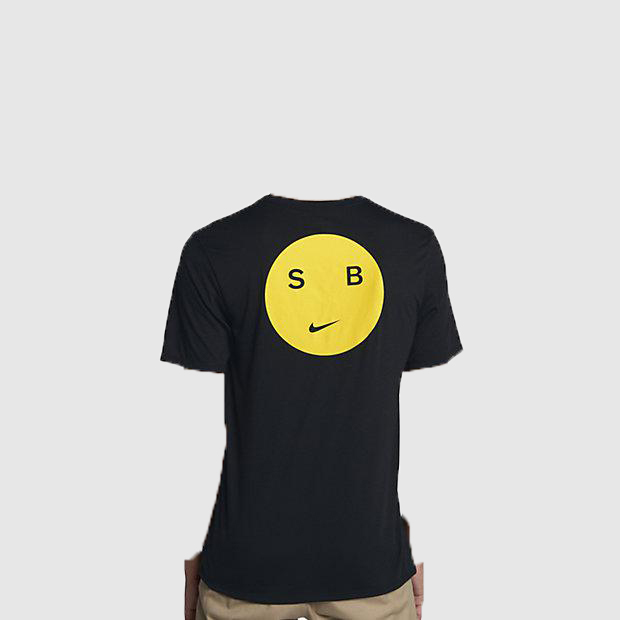teeshirt: (152, 189, 469, 603)
